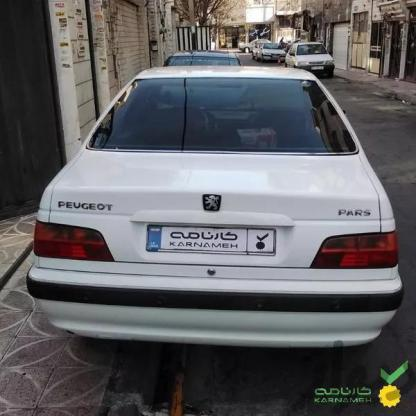Car: (54, 49, 402, 364), (157, 53, 251, 108), (272, 31, 343, 78), (247, 32, 282, 66)
